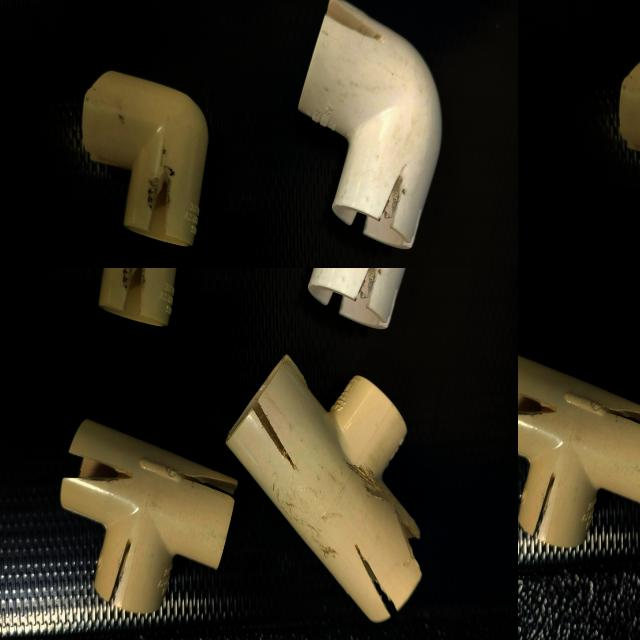Defective: (533, 472, 558, 547), (537, 474, 558, 546), (518, 384, 550, 423), (607, 404, 640, 439), (518, 395, 551, 421), (603, 413, 640, 436)
L Joint: (6, 268, 218, 471)
T Joint: (518, 355, 640, 548), (20, 20, 75, 112)
